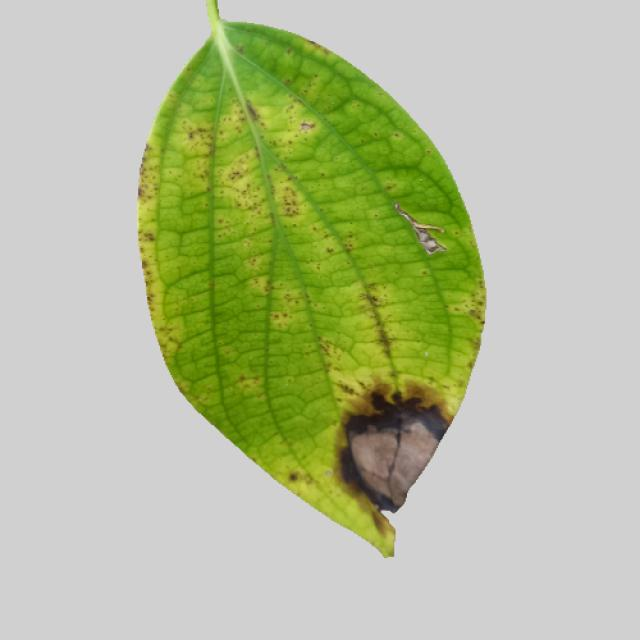leaf-blight: (116, 14, 493, 559)
